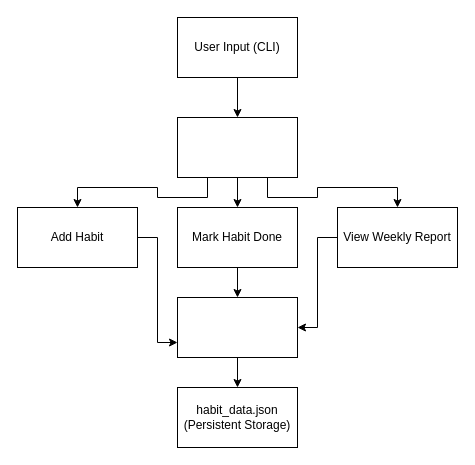
Image size: 475x465. Some labels were removed from this diagram. Each missing label, with the box of its shape:
habit_manager.py (Core Logic Layer): (176, 296, 298, 358)
main.py (Menu Controller): (176, 116, 298, 178)
